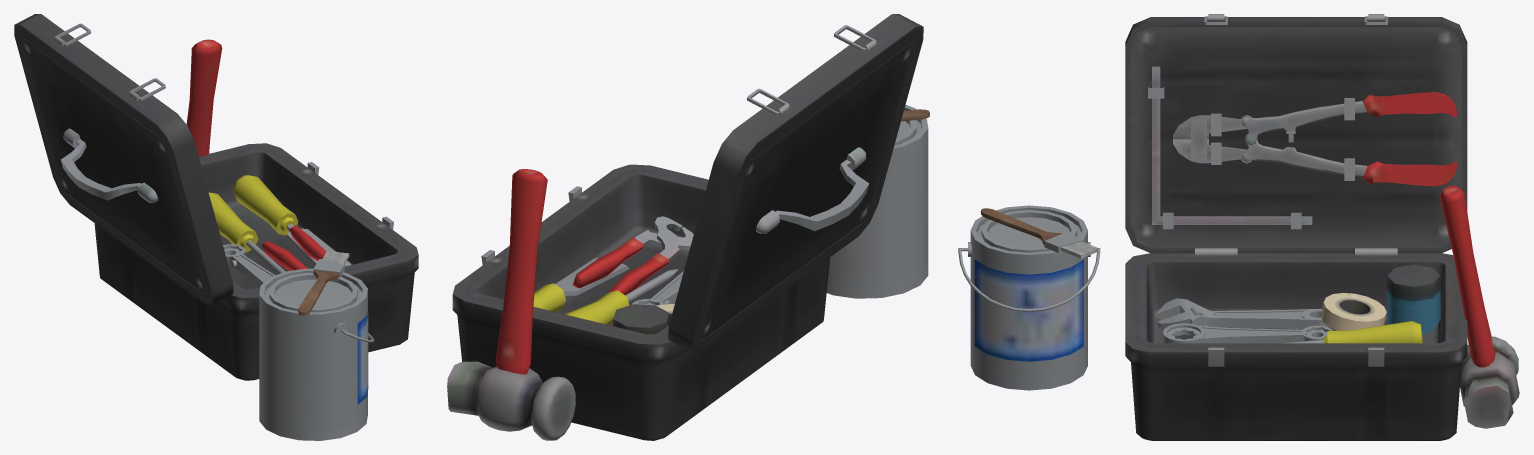
The model's file is SM_ToolBox_f014d4.glb.
3 renders of one model, left to right at view 1: azimuth 30°, elevation 25°; view 2: azimuth 150°, elevation 25°; view 3: azimuth 270°, elevation 25°, orthographic. The views are drawn at different scales.
Bounding box in the file's own units: 0.9599 × 0.9584 × 1.58.
1 material, 1 textured.
